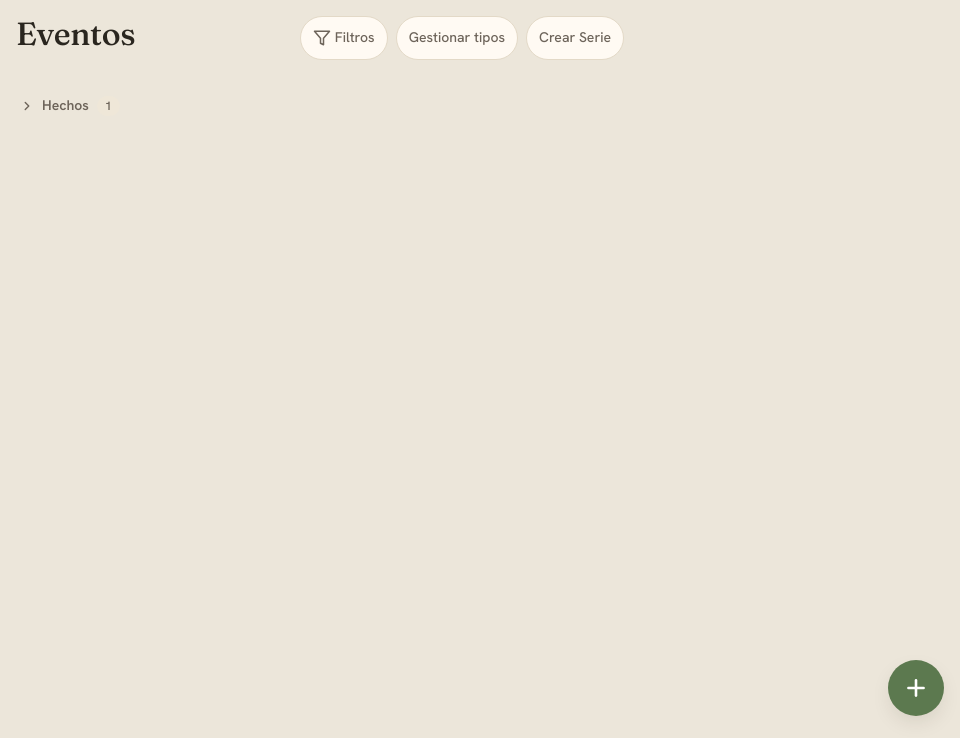
Test: EventosPage — agrupación temporal › retira los hechos a una sección "Hechos" colapsable, fuera de la vista principal
Expected: the text "Hechos" is shown, [42,95,89,117]
Expected: the text "Ya hecho" is not shown
Note: Al desplegar, aparece.
Click the button "Hechos 1" at x=70, y=106, box [16,84,124,128]
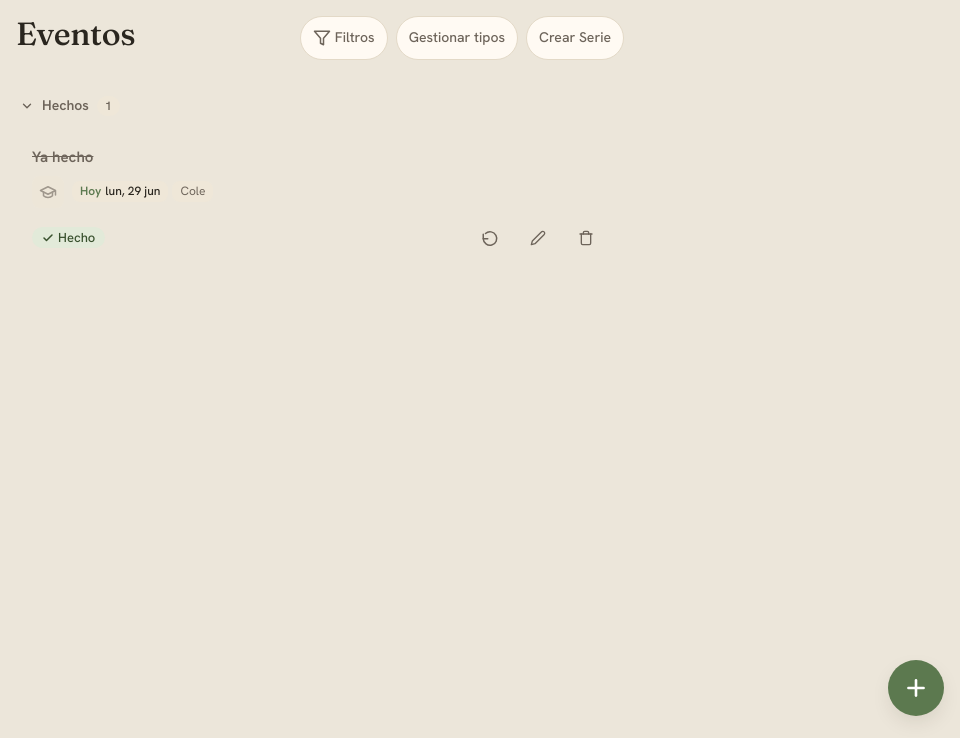
Expected: the text "Ya hecho" is shown, [32,147,93,167]
